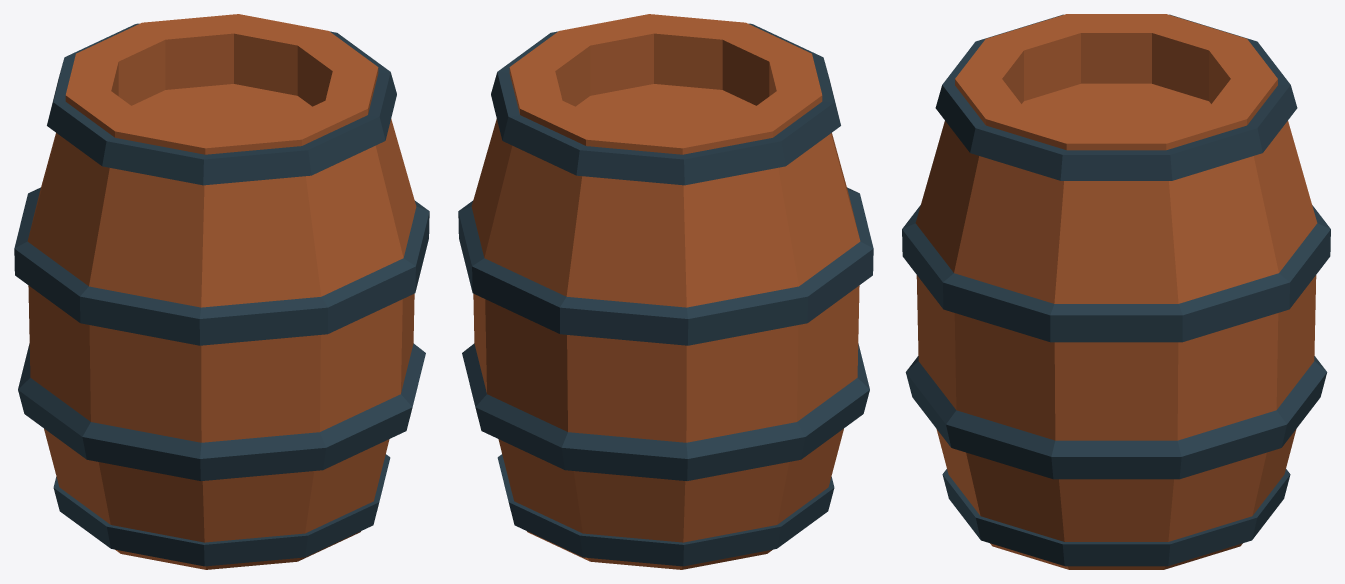
File: bucket.fbx
3 renders of one model, left to right at view 1: azimuth 30°, elevation 25°; view 2: azimuth 150°, elevation 25°; view 3: azimuth 270°, elevation 25°, orthographic.
Visible parts, largest first — view 1: 柱体.035; view 2: 柱体.035; view 3: 柱体.035.
Part boxes in pixels (left/top/right/bottom): 柱体.035: left=14, top=14, right=429, bottom=569; 柱体.035: left=458, top=14, right=873, bottom=569; 柱体.035: left=902, top=14, right=1330, bottom=569.
Bounding box in the file's own units: 418 × 398 × 462.
